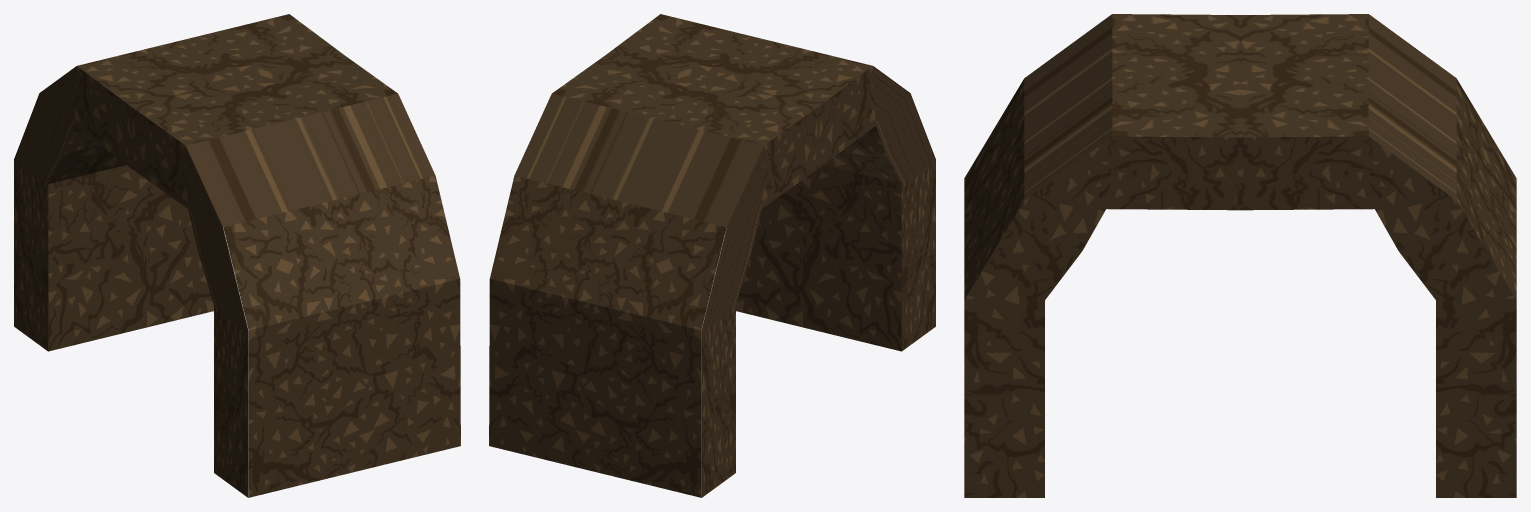
File: corridor1.glb
The picture shows the model from 3 angles, left to right: view 1: azimuth 30°, elevation 25°; view 2: azimuth 150°, elevation 25°; view 3: azimuth 270°, elevation 25°; orthographic projection. The views are drawn at different scales.
Visible parts, largest first — view 1: Cube; view 2: Cube; view 3: Cube.
Boxes of the visible parts, box(x1,y1,x2,y2) form: Cube: box(14, 14, 460, 497); Cube: box(489, 14, 935, 497); Cube: box(964, 14, 1516, 497).
Bounding box in the file's own units: 7.2 × 9.92 × 13.72.
1 material, 1 textured.
